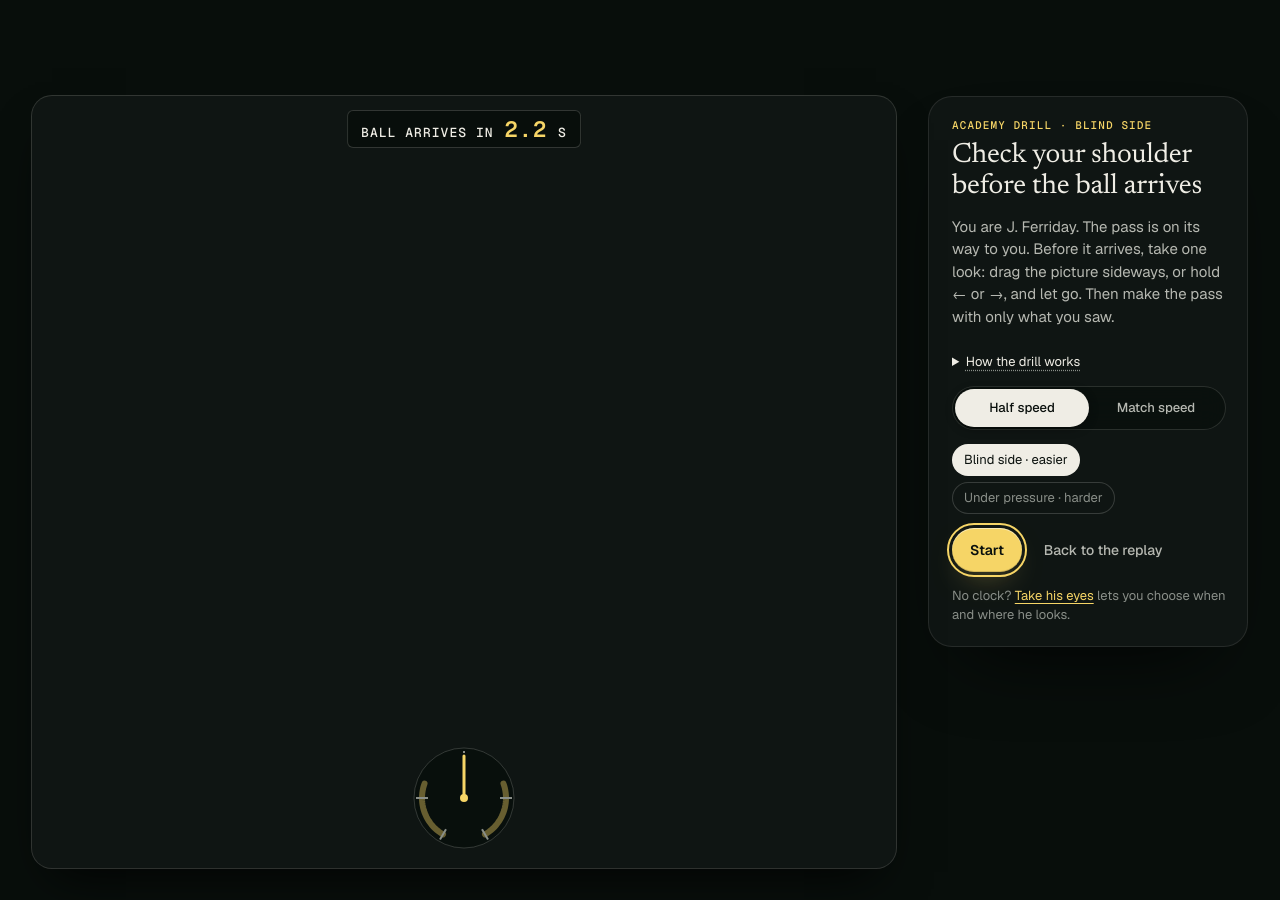
Scenario: Academy drill: the look, the call, the result › turns his head with the arrow keys, locks the look on the grid and says it
Click the button "Match speed" at (1156, 408), box [1089, 389, 1223, 427]
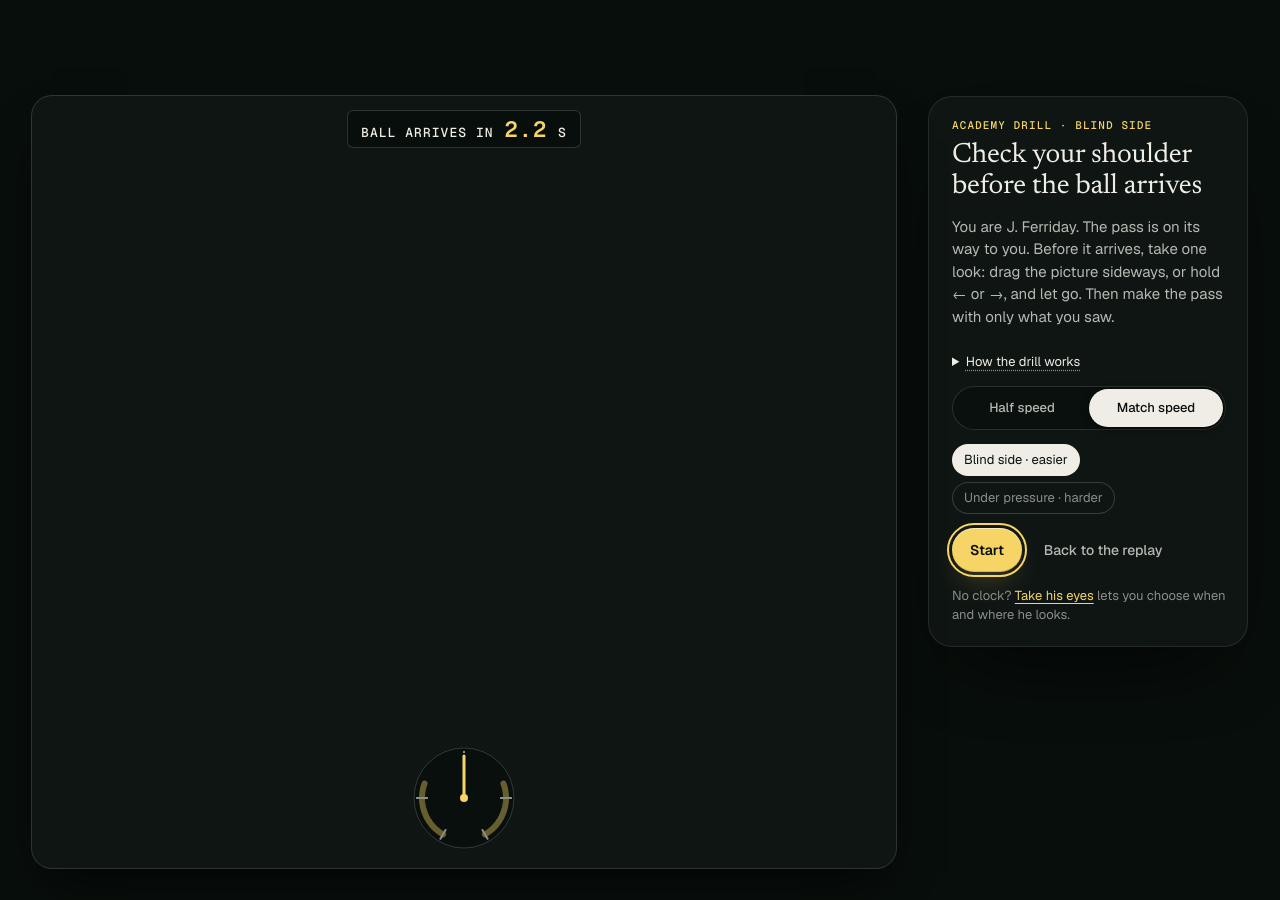
Click the button "Start" at (987, 550), box [952, 528, 1022, 572]
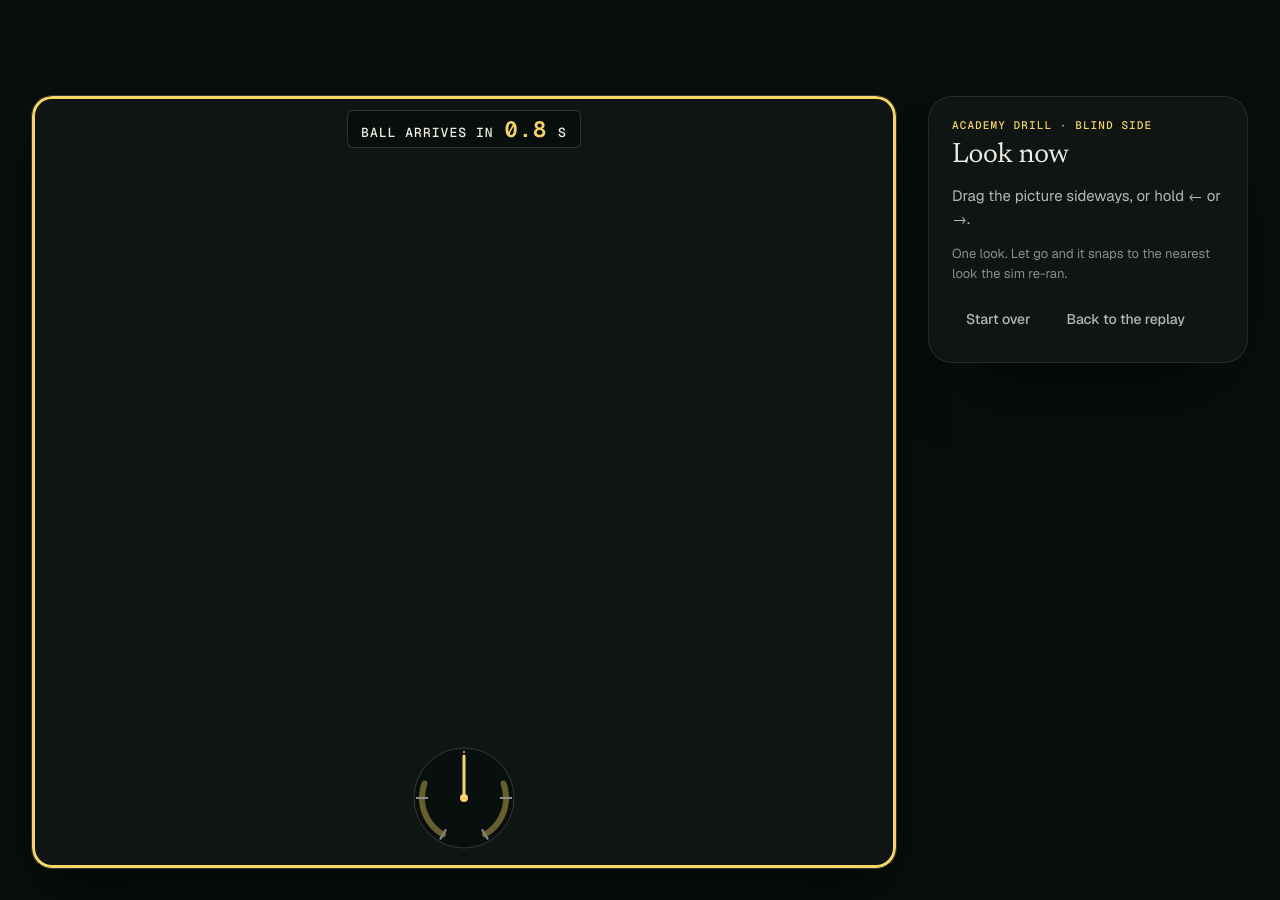
Check: the element with class "dr-countdown" reads "Ball arrives in 0.8 s", box [347, 110, 581, 148]
Press ArrowRight in the slider named "J. Ferriday's head", box [32, 96, 896, 868]
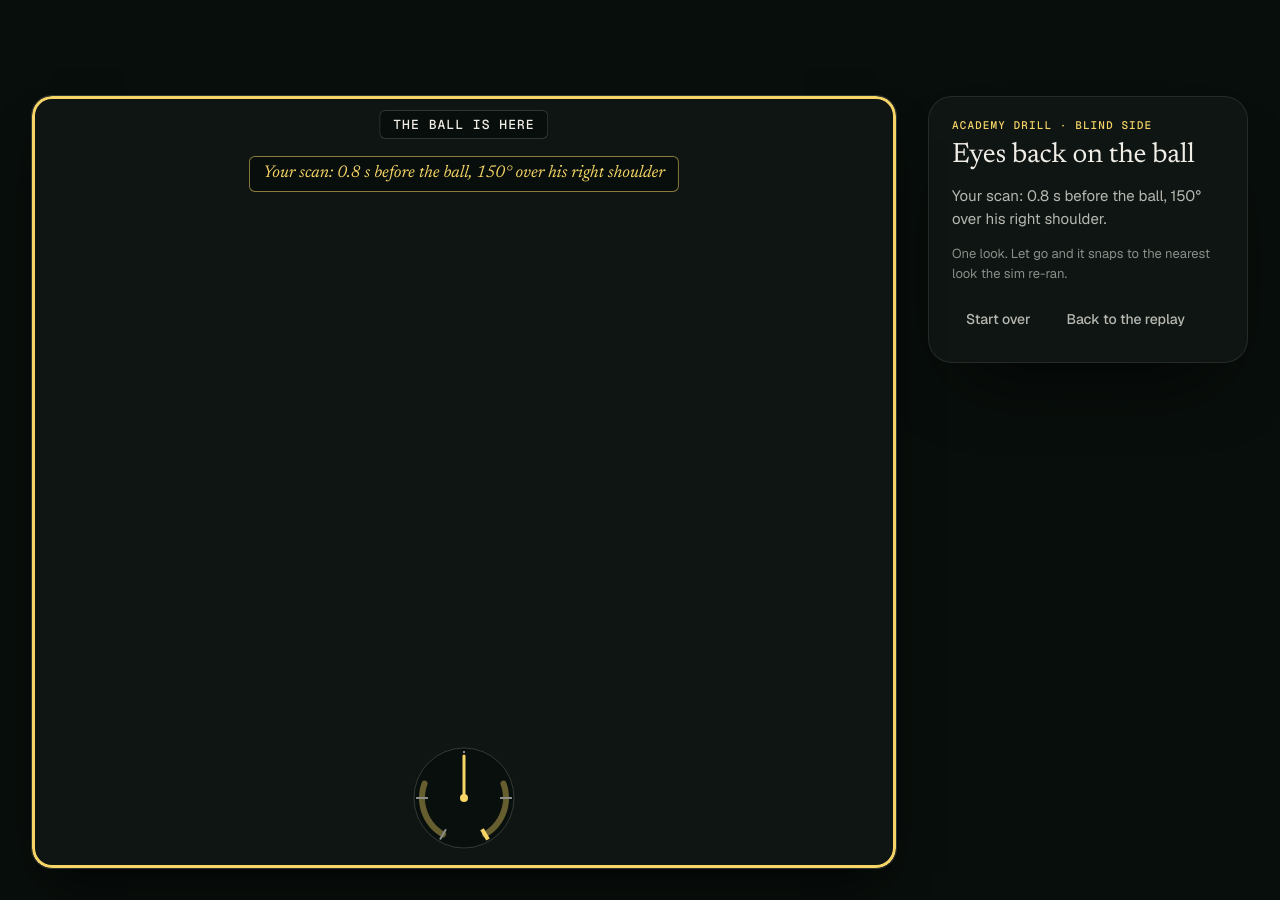
Check: the element with class "dr-tick" is shown, box [482, 829, 488, 840]
Check: the text with class "dr-locked" reads "Your scan: 0.8 s before the ball, 150° over his right shoulder", box [263, 165, 665, 182]
Check: the text with class "dr-lead" reads "Your scan: 0.8 s before the ball, 150° over his right shoulder.", box [952, 186, 1201, 228]
